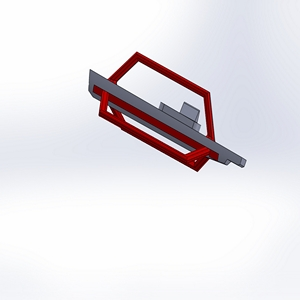submarine: (74, 48, 258, 187)
